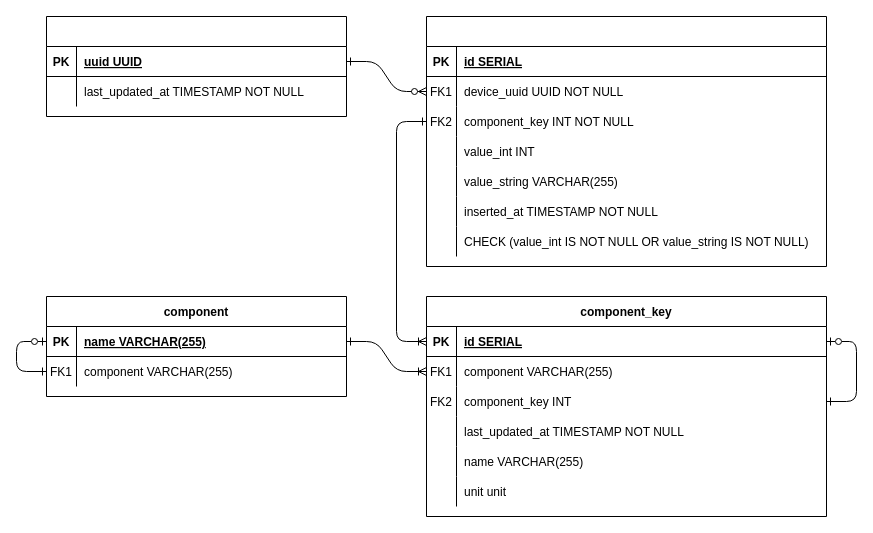
The diagram is 873 pixels wide and 533 high, and some of its shapes have lost their labels. Here are the shapes that lost their labels. From the top down, the box of each, then its label:
(46, 16, 346, 116): Device
(426, 16, 826, 266): component_value
